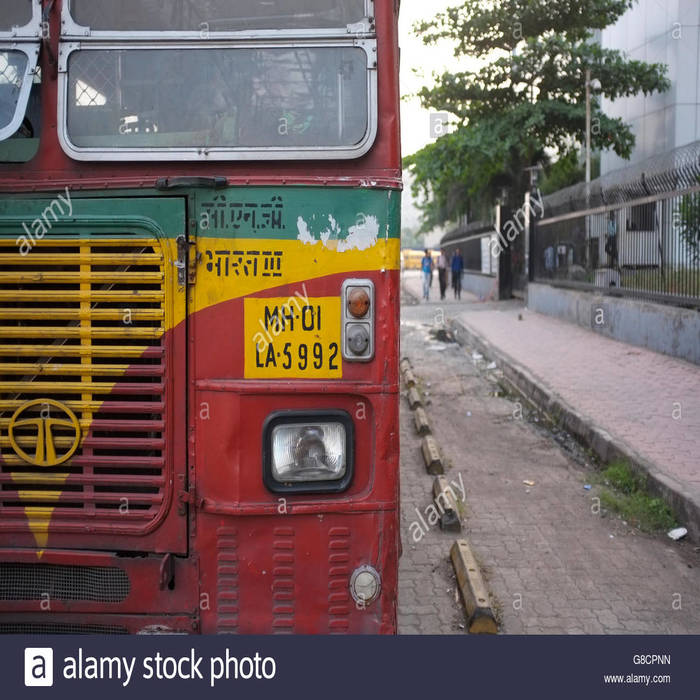n: (241, 295, 346, 384)
